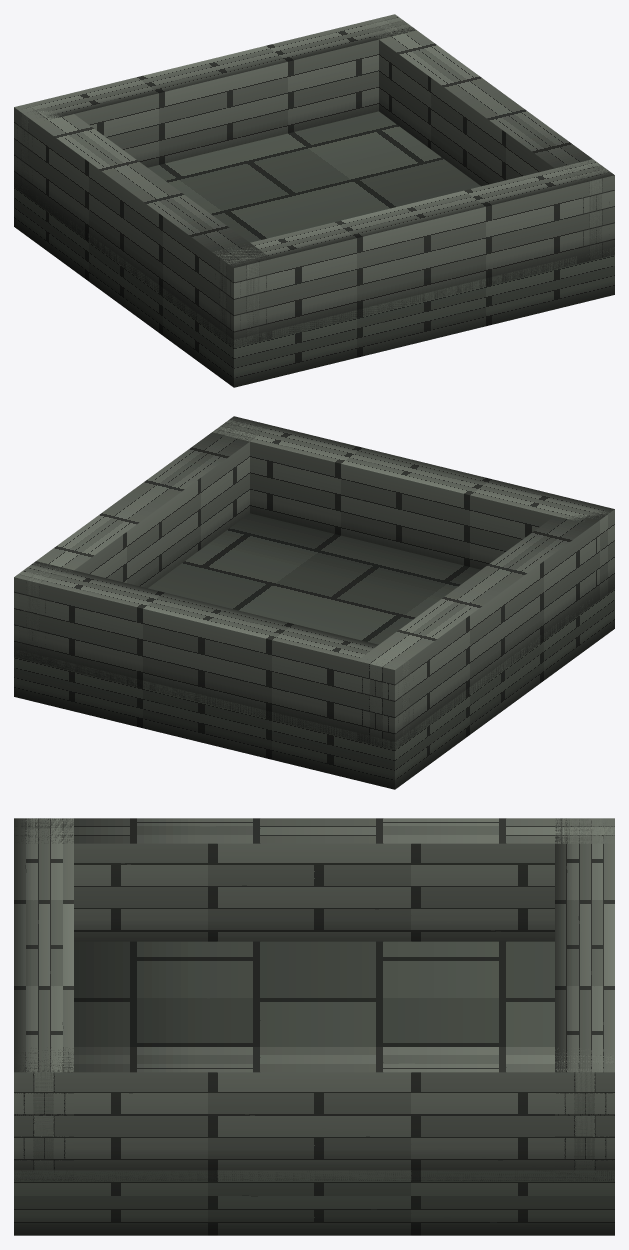
Rendered from roof_flat.gltf.
3 views of the same model, one above another, from view 1: azimuth 30°, elevation 25°; view 2: azimuth 150°, elevation 25°; view 3: azimuth 270°, elevation 25° (orthographic). The views are drawn at different scales.
Parts seen in each view (by area): view 1: roof_flat; view 2: roof_flat; view 3: roof_flat.
Part boxes in pixels (x1,y1,x2,y2): roof_flat: [14, 14, 614, 387]; roof_flat: [14, 416, 614, 789]; roof_flat: [14, 818, 614, 1235].
Size of the model in its own units: 1 by 0.3 by 1.
Materials: 1 (1 with a texture image).
